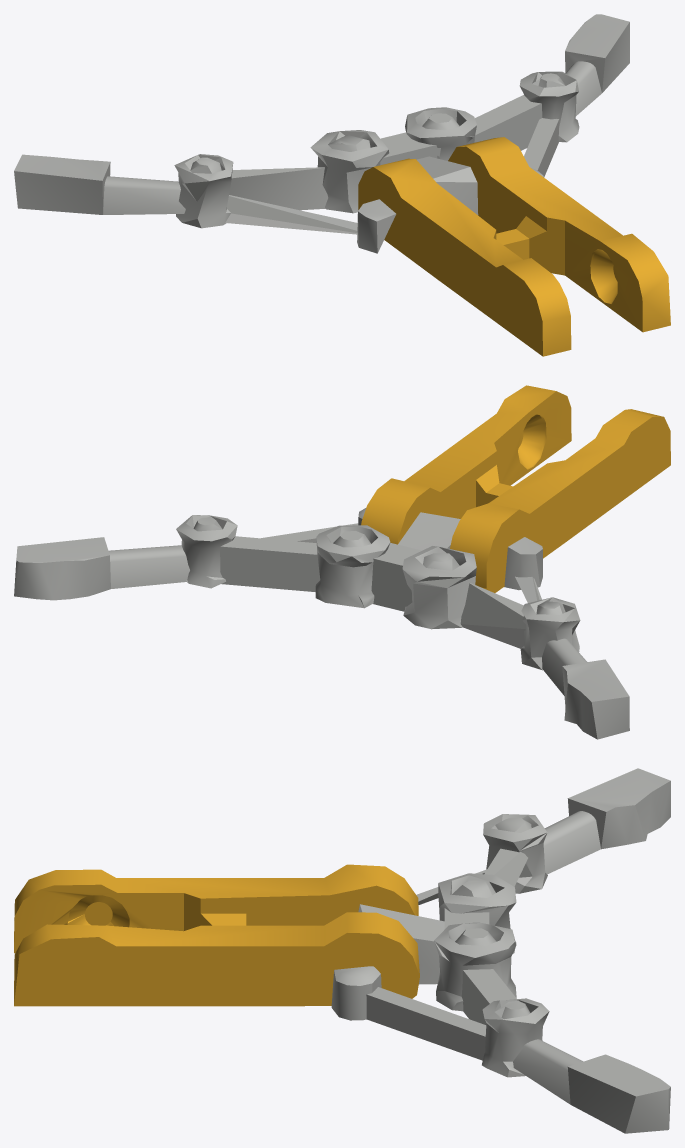
The model's file is inserter-arm-bulk-hand-open.glb.
3 renders of one model, top to bottom at view 1: azimuth 30°, elevation 25°; view 2: azimuth 150°, elevation 25°; view 3: azimuth 270°, elevation 25°, orthographic. The views are drawn at different scales.
Visible parts, largest first — view 1: body; view 2: body; view 3: body.
Part boxes in pixels (x1,y1,x2,y2): body: (14, 14, 670, 356); body: (14, 385, 670, 739); body: (14, 768, 670, 1133).
Bounding box in the file's own units: 1.06 × 0.1105 × 0.8929.
